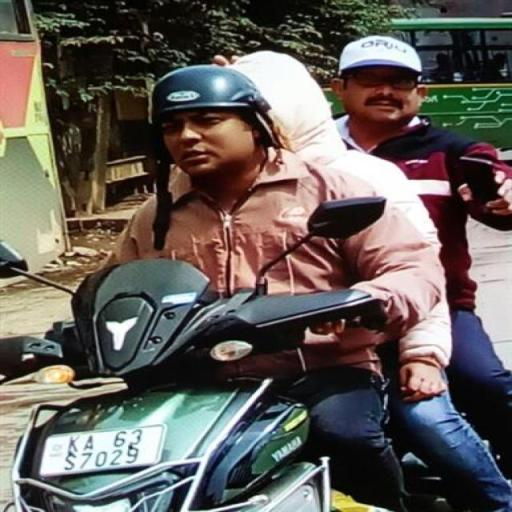tripple riding: (102, 33, 512, 329)
